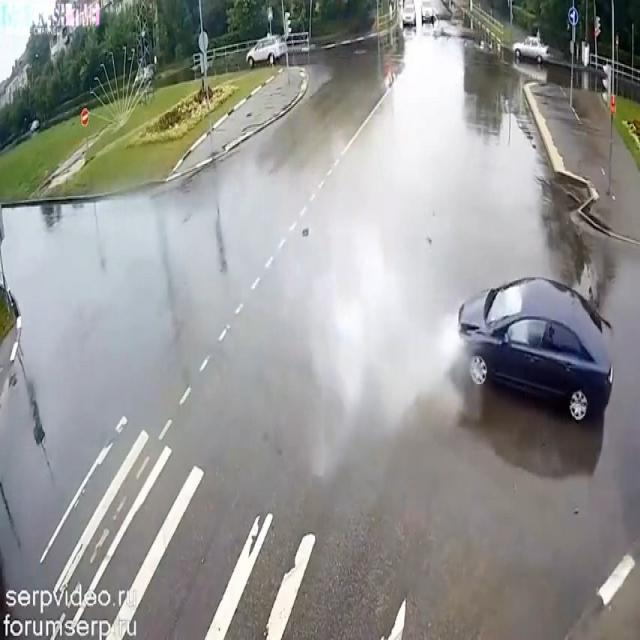Accident: (431, 231, 619, 478)
